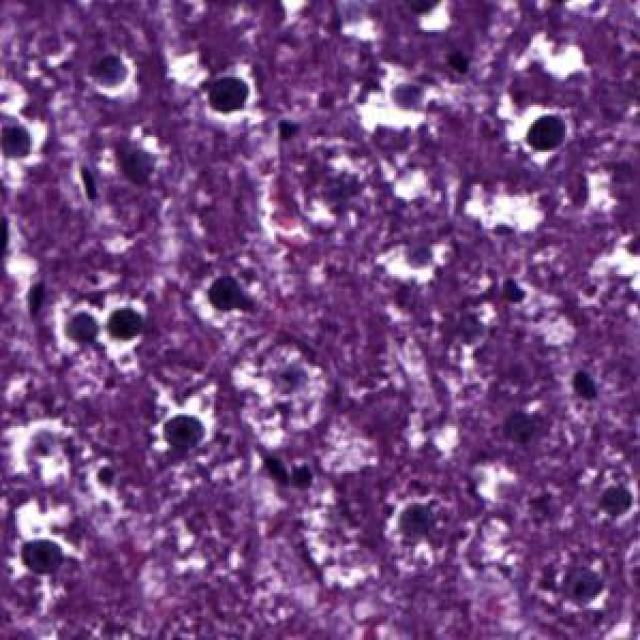inflammation: (208, 266, 259, 326), (21, 529, 70, 582), (197, 71, 248, 120), (107, 300, 148, 355), (524, 110, 570, 158), (86, 49, 137, 88), (165, 409, 205, 454), (64, 306, 98, 351)
